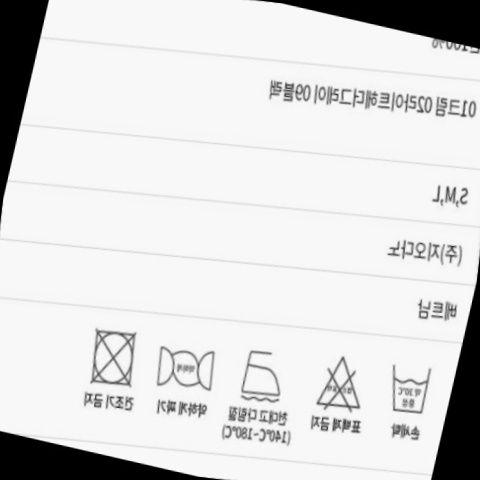30C: (373, 350, 444, 423)
DN_tumble_dry: (73, 314, 153, 399)
iron: (143, 330, 228, 402), (225, 333, 299, 413)
non_chlorine_bleach: (299, 340, 377, 423)
